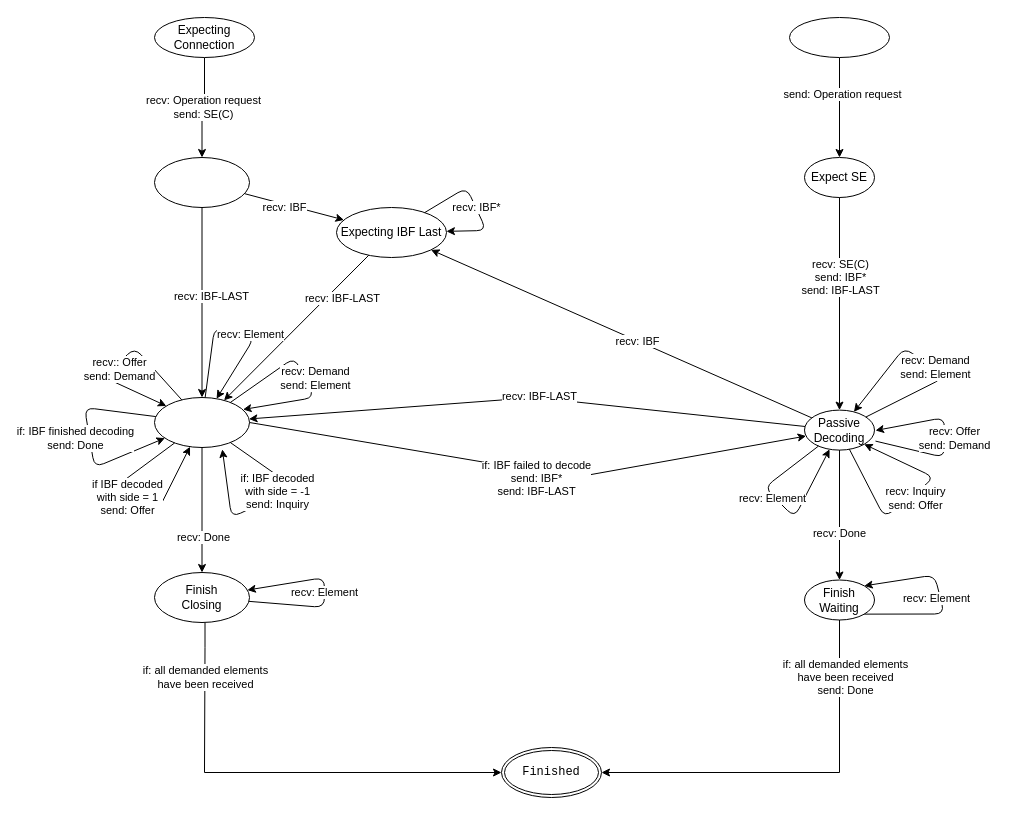
Some shapes in this 1009 by 815 pixel diagram are drawn without their labels. Each missing label, with the centre of its shape:
"Active Decoding" goes at [202,422].
"Expecting IBF" goes at [202,182].
"Initiating Connection" goes at [839,37].
